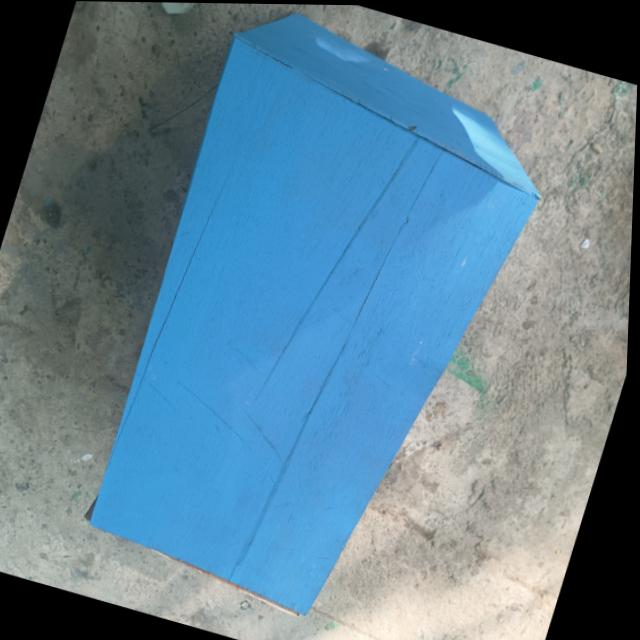blue_box: (57, 12, 571, 640)
